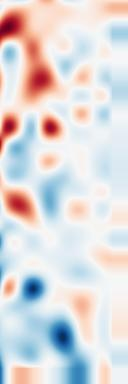filament: (0, 6, 68, 102)
